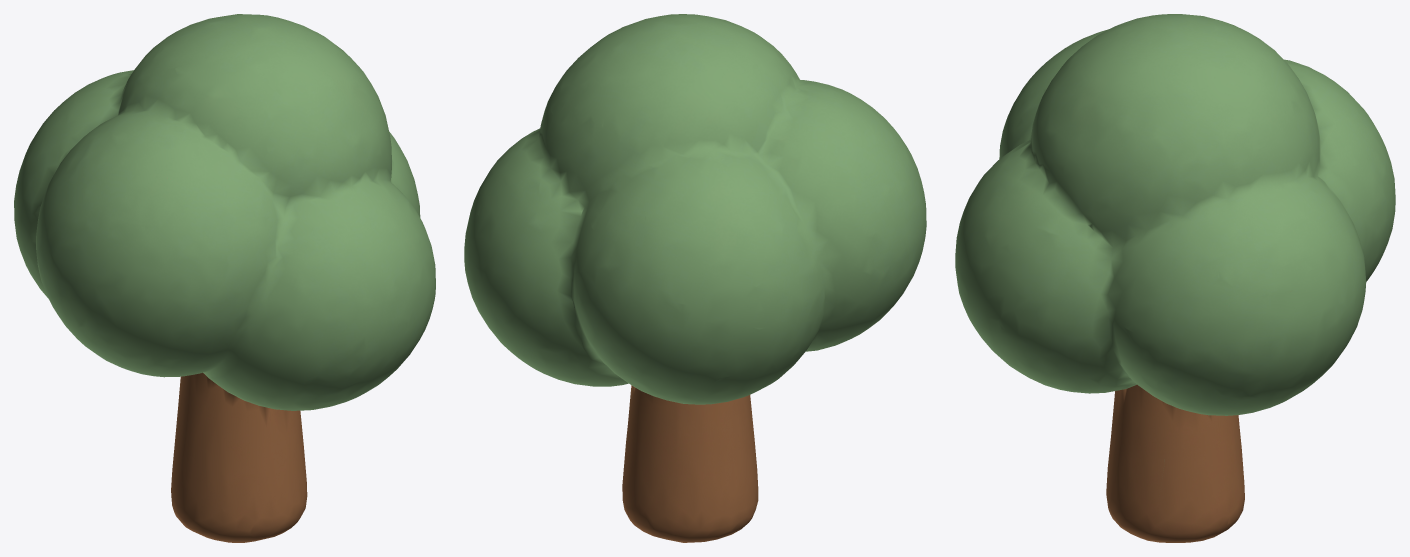
File: bigtree.glb
3 views of the same model, side by side, from view 1: azimuth 30°, elevation 25°; view 2: azimuth 150°, elevation 25°; view 3: azimuth 270°, elevation 25° (orthographic).
Visible parts, largest first — view 1: tripo_node_7e057db0-0fcd-41e2-8457-4d3925827a4e; view 2: tripo_node_7e057db0-0fcd-41e2-8457-4d3925827a4e; view 3: tripo_node_7e057db0-0fcd-41e2-8457-4d3925827a4e.
Part boxes in pixels (box(x1,y1,x2,y2)): tripo_node_7e057db0-0fcd-41e2-8457-4d3925827a4e: box(14, 14, 435, 542); tripo_node_7e057db0-0fcd-41e2-8457-4d3925827a4e: box(464, 14, 926, 542); tripo_node_7e057db0-0fcd-41e2-8457-4d3925827a4e: box(955, 14, 1395, 542).
Size of the model in its own units: 0.8166 by 1 by 0.7937.
1 material, 1 textured.
